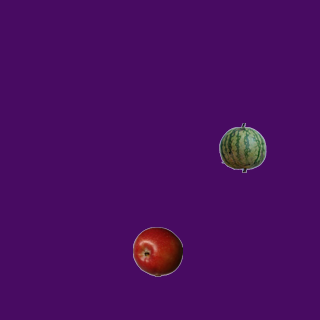Apple Braeburn: (132, 226, 182, 276)
Watermelon: (217, 122, 267, 172)
